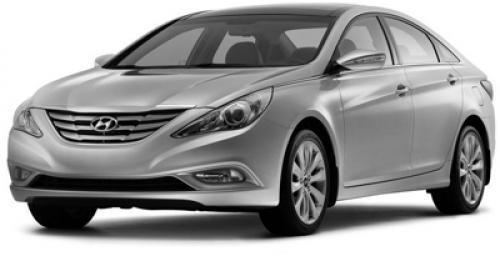car: (5, 3, 498, 241)
